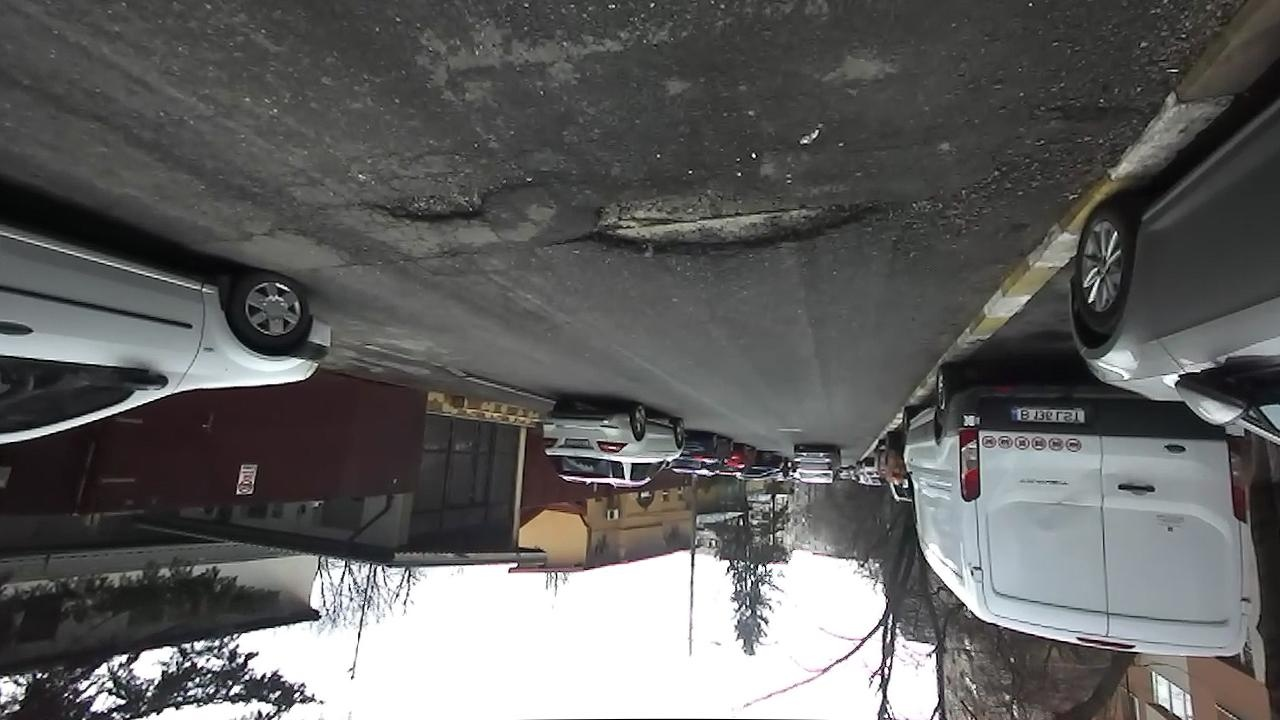pothole: (548, 183, 901, 267), (360, 176, 519, 227)
